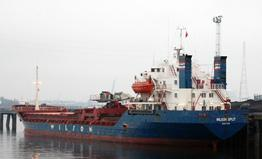Cargoship: (10, 15, 259, 148)
